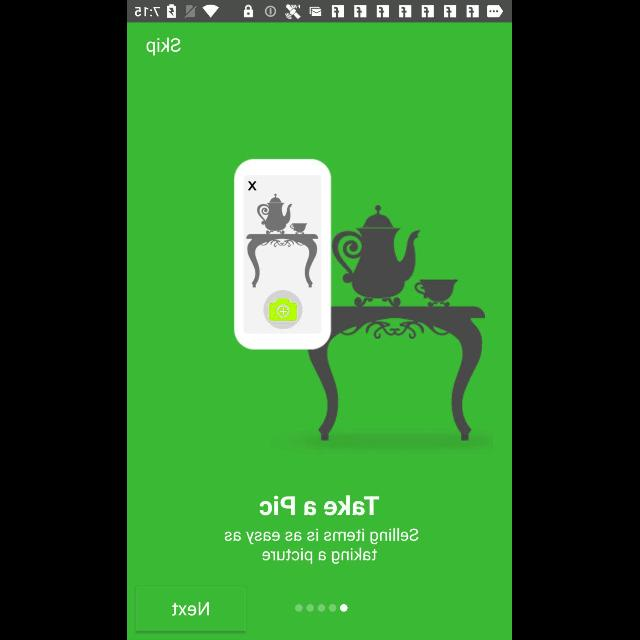image: (234, 159, 486, 441)
pageindicator: (296, 604, 348, 612)
text: (225, 528, 419, 564), (260, 494, 380, 516), (147, 38, 181, 56)
textbutton: (137, 586, 247, 630)
uppertaskbar: (128, 1, 512, 23)
